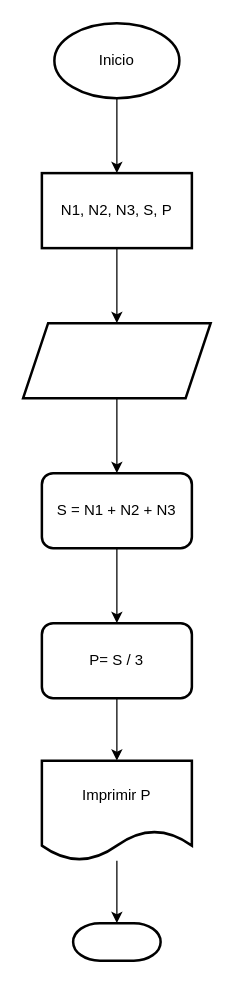
This 233x983 diagram has some shape labels left out. The centre of each missing label's shape, as x and y in pixels:
"Fin" goes at (x=116, y=941).
"Ingrese N1, N2, N3" goes at (x=116, y=360).
